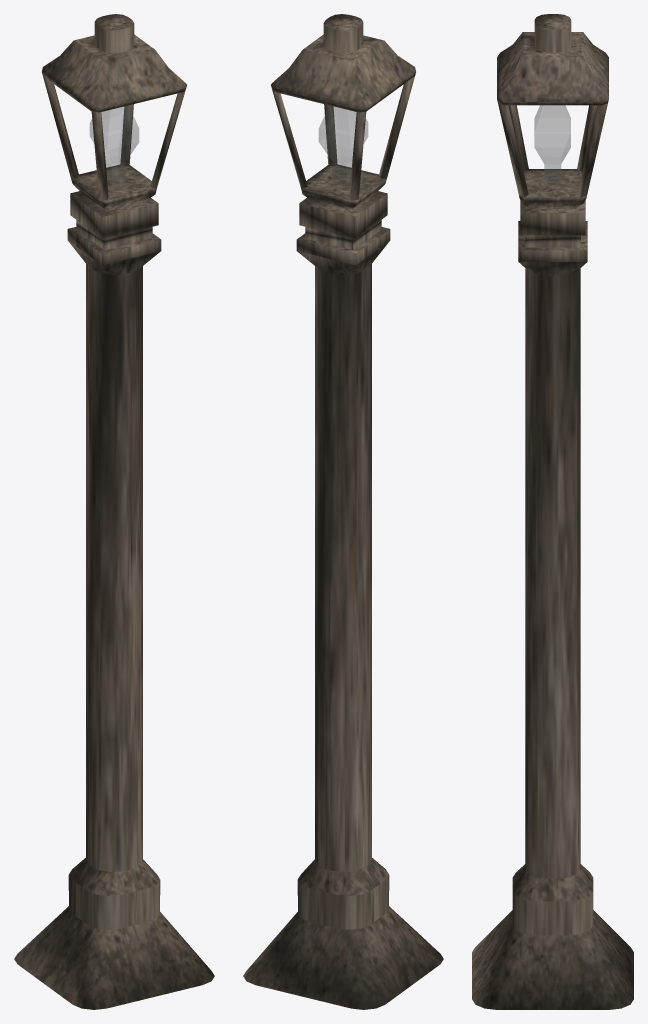
File: Lampuu.fbx
The picture shows the model from 3 angles, left to right: view 1: azimuth 30°, elevation 25°; view 2: azimuth 150°, elevation 25°; view 3: azimuth 270°, elevation 25°; orthographic projection.
Visible parts, largest first — view 1: lampu_LOD0; view 2: lampu_LOD0; view 3: lampu_LOD0.
Part boxes in pixels (<box>): lampu_LOD0: <box>14,14,214,1009</box>; lampu_LOD0: <box>243,14,443,1009</box>; lampu_LOD0: <box>472,14,633,1009</box>.
Size of what is drawn, in the model's own units: 82.78 by 538 by 82.78.
2 materials, 1 textured.
